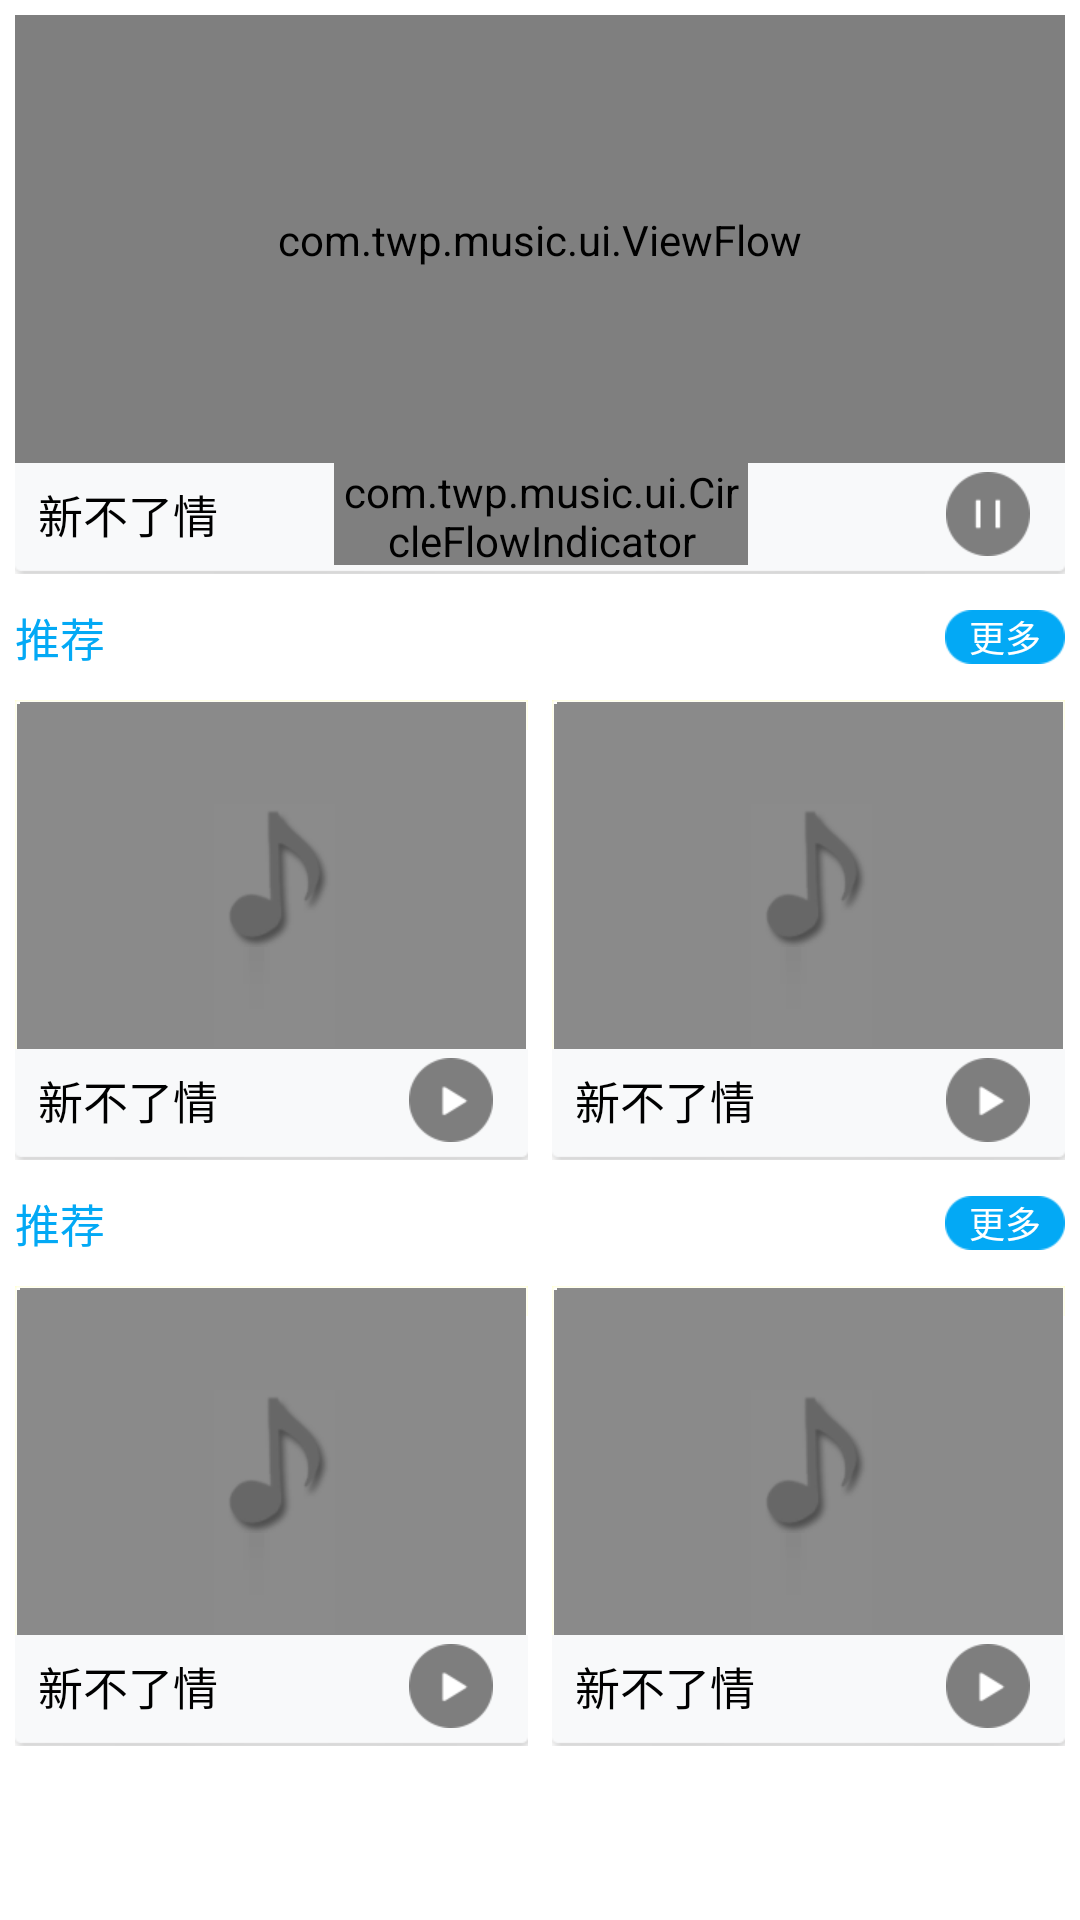

Screen size 1080px×1920px. Icon name, then its box in pixels as (x1, y1, x2, y2):
list pause: (946, 472, 1030, 556)
list play: (409, 1058, 493, 1142), (946, 1058, 1030, 1142), (409, 1644, 493, 1728), (946, 1644, 1030, 1728)
